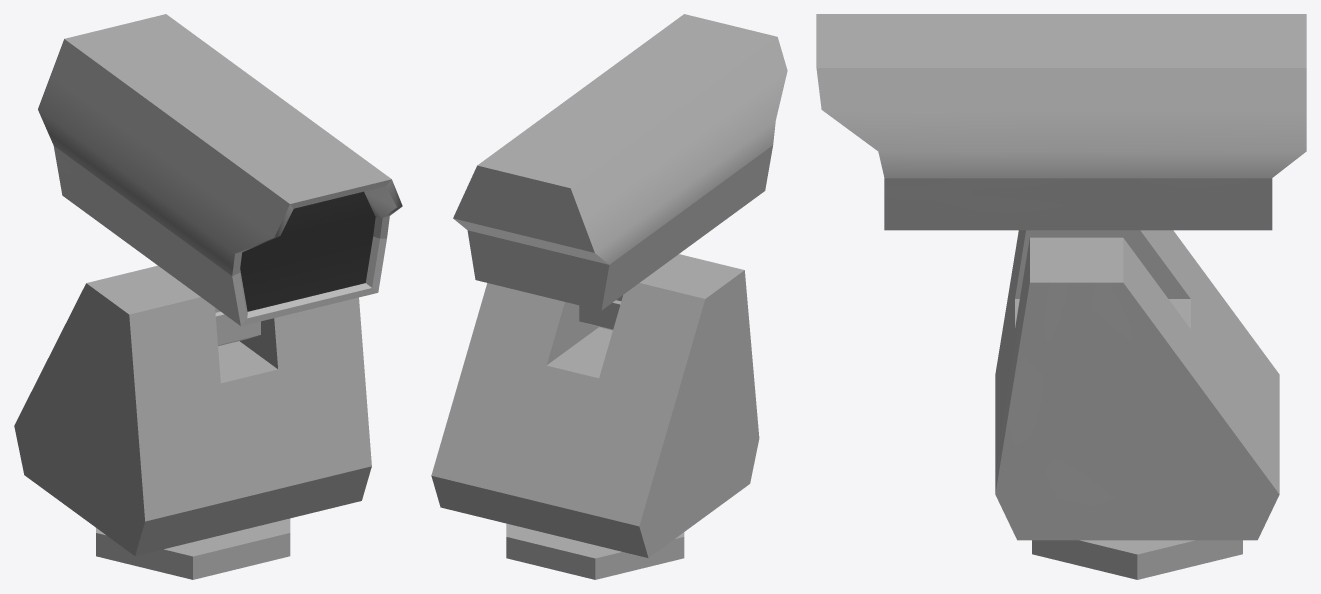
3 views of the same model, side by side, from view 1: azimuth 30°, elevation 25°; view 2: azimuth 150°, elevation 25°; view 3: azimuth 270°, elevation 25° (orthographic). The views are drawn at different scales.
Visible parts, largest first — view 1: Lo-Body_01; view 2: Lo-Body_01; view 3: Lo-Body_01.
Boxes of the visible parts, box(x1,y1,x2,y2) form: Lo-Body_01: box(14, 14, 402, 579); Lo-Body_01: box(431, 14, 787, 579); Lo-Body_01: box(816, 14, 1306, 579).
Size of the model in its own units: 0.1128 by 0.2135 by 0.1945.
1 material, 1 textured.
